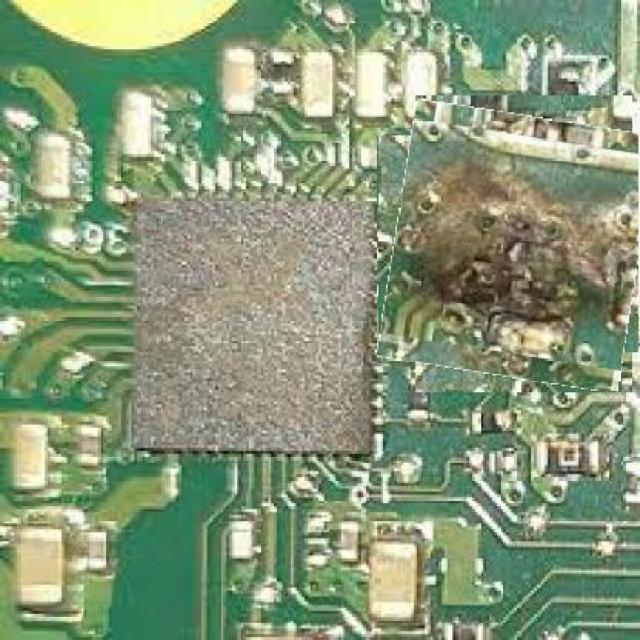Burn: (386, 106, 639, 385)
